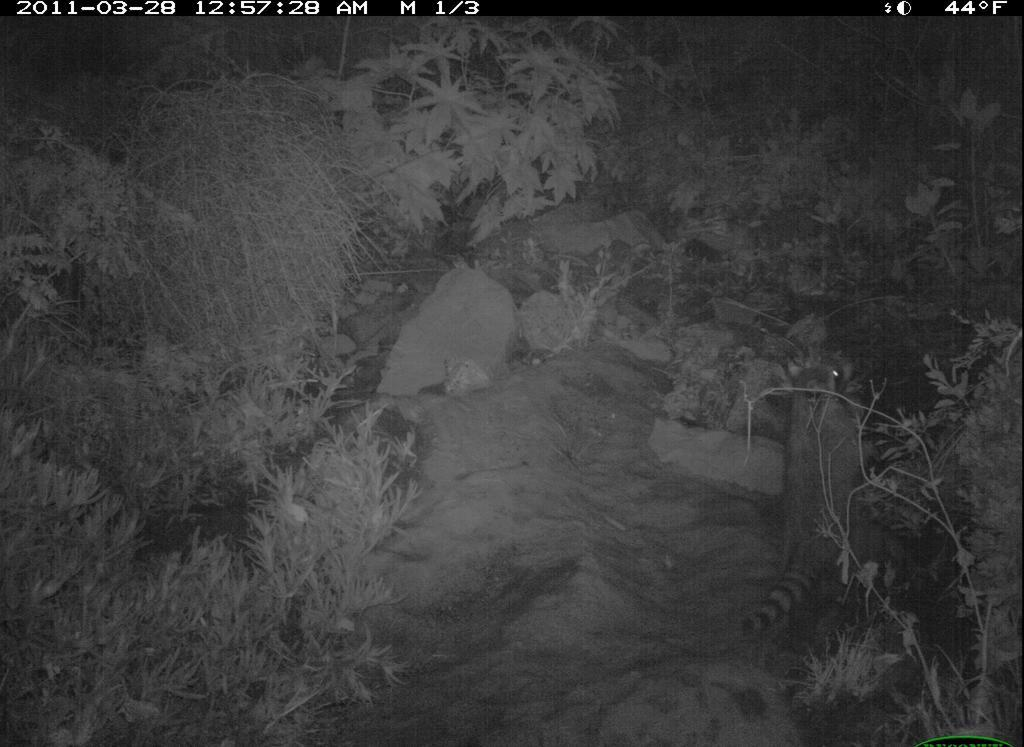raccoon: (731, 363, 876, 649)
